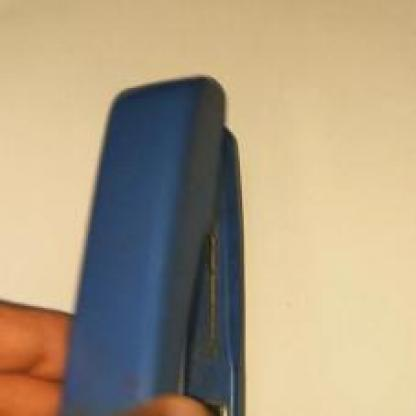stapler: (56, 65, 281, 415)
